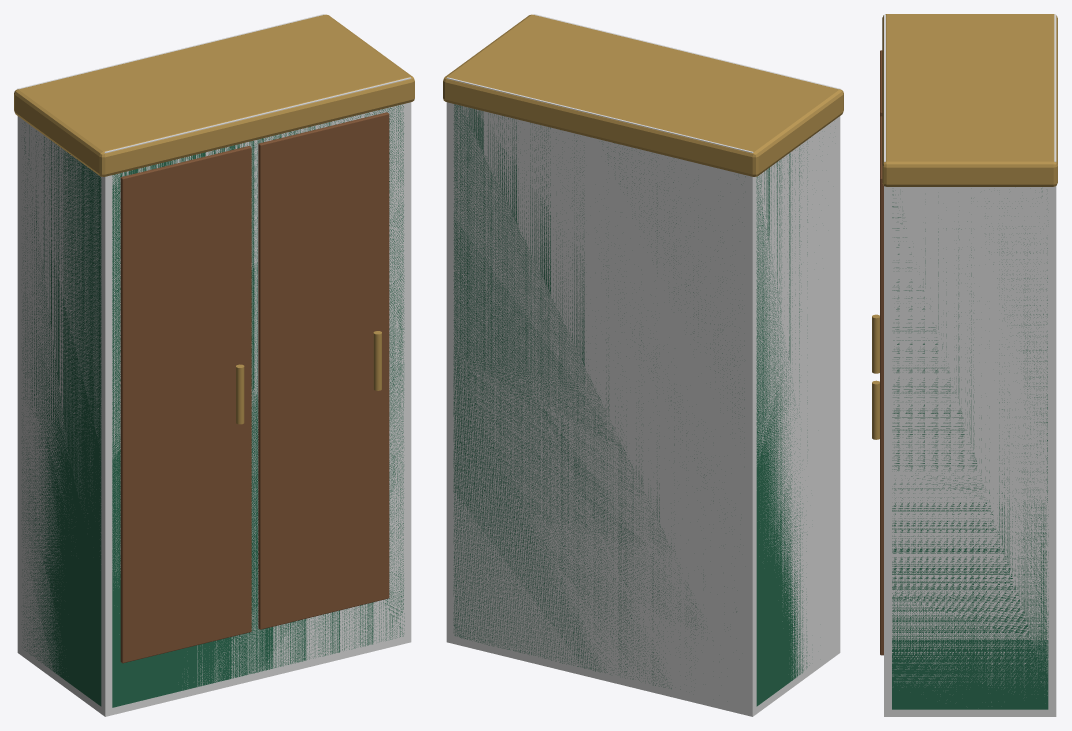
File: storage-cabinet_luxury.glb
3 renders of one model, left to right at view 1: azimuth 30°, elevation 25°; view 2: azimuth 150°, elevation 25°; view 3: azimuth 270°, elevation 25°, orthographic.
Visible parts, largest first — view 1: COL_storage-cabinet, MESH_Door_01, MESH_Door_02, MESH_CabinetCarcass, MESH_Crown; view 2: COL_storage-cabinet, MESH_CabinetCarcass, MESH_Crown; view 3: COL_storage-cabinet, MESH_Crown, MESH_CabinetCarcass, MESH_Door_02, MESH_Handle, MESH_Handle.001.
Boxes of the visible parts, x1=… form: COL_storage-cabinet: x1=17, y1=14, x2=411, y2=716; MESH_Door_01: x1=120, y1=146, x2=251, y2=663; MESH_Door_02: x1=258, y1=112, x2=389, y2=629; MESH_CabinetCarcass: x1=21, y1=104, x2=404, y2=707; MESH_Crown: x1=14, y1=14, x2=414, y2=176; COL_storage-cabinet: x1=446, y1=14, x2=840, y2=716; MESH_CabinetCarcass: x1=453, y1=104, x2=809, y2=706; MESH_Crown: x1=443, y1=14, x2=843, y2=176; COL_storage-cabinet: x1=884, y1=14, x2=1056, y2=716; MESH_Crown: x1=882, y1=14, x2=1057, y2=186; MESH_CabinetCarcass: x1=892, y1=188, x2=1048, y2=709; MESH_Door_02: x1=880, y1=116, x2=883, y2=655; MESH_Handle: x1=872, y1=314, x2=879, y2=373; MESH_Handle.001: x1=872, y1=380, x2=879, y2=439.
Size of the model in its own units: 1.08 by 1.85 by 0.5612.
